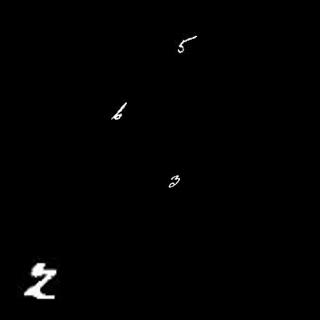five: (176, 32, 202, 56)
six: (110, 97, 133, 121)
three: (166, 173, 181, 191)
two: (26, 259, 57, 300)
